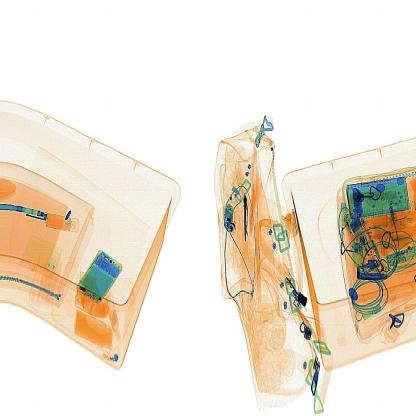knife: (237, 186, 263, 243)
